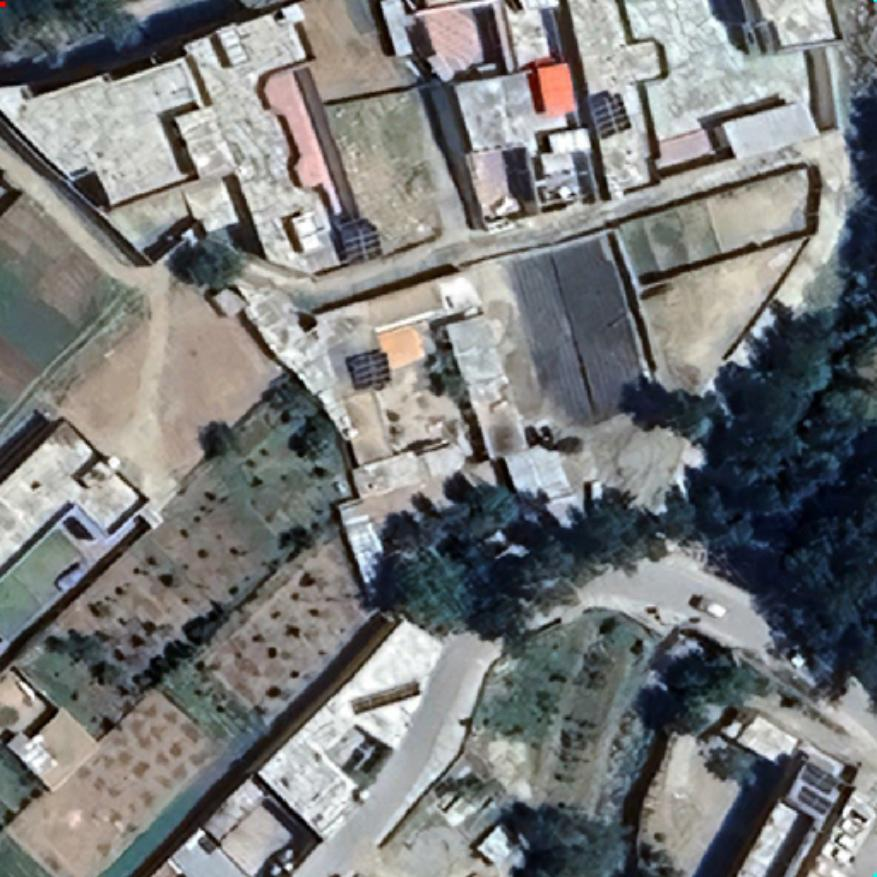Solarpanel: (338, 219, 384, 265), (590, 90, 632, 140), (347, 347, 393, 392), (794, 757, 843, 798), (792, 784, 837, 815)
